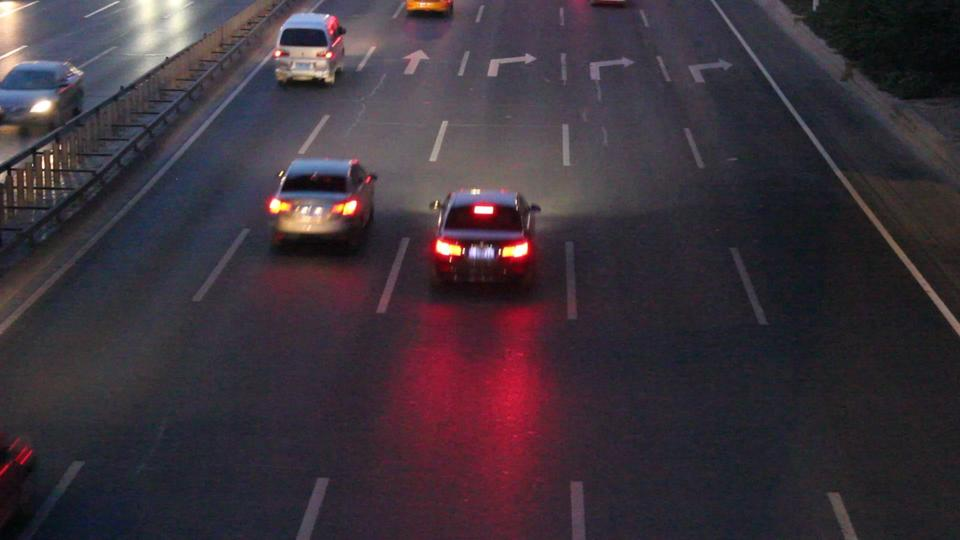car: (428, 189, 542, 290), (265, 156, 378, 255), (0, 60, 87, 128), (272, 12, 348, 89), (405, 0, 453, 17)
